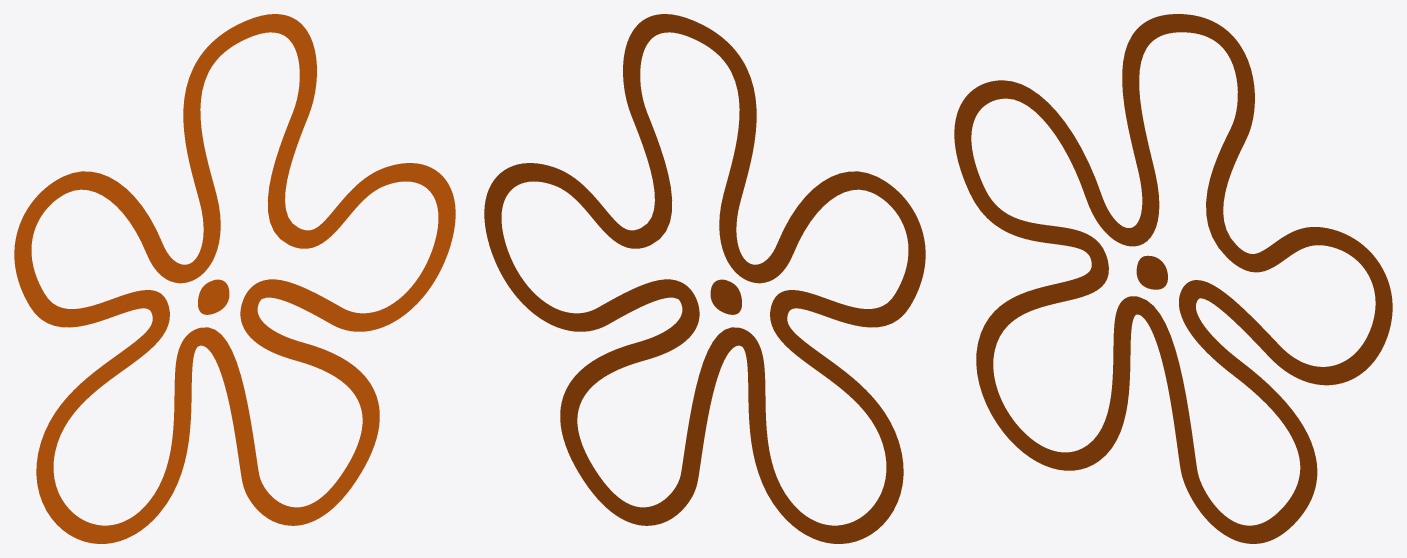
The model's file is flower_10.obj.
The picture shows the model from 3 angles, left to right: view 1: azimuth 30°, elevation 25°; view 2: azimuth 150°, elevation 25°; view 3: azimuth 330°, elevation 25°; orthographic projection.
Visible parts, largest first — view 1: flower_10; view 2: flower_10; view 3: flower_10.
Part boxes in pixels (x1,y1,x2,y2): flower_10: (14,14,455,543); flower_10: (484,14,925,543); flower_10: (954,14,1392,543).
Bounding box in the file's own units: 2.98 × 3.35 × 0.
